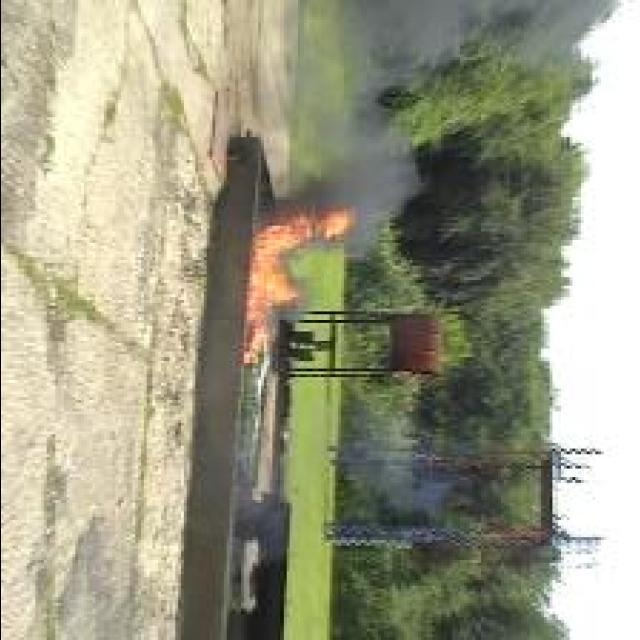Fire: (243, 212, 357, 366)
